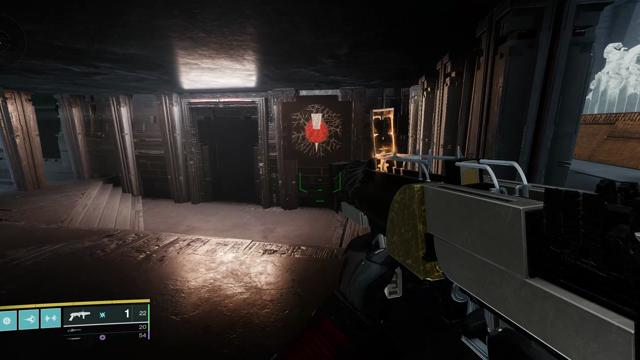kill: (291, 104, 343, 157)
